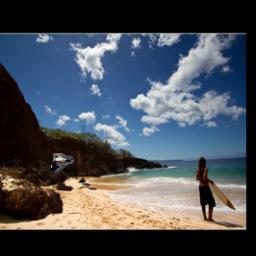Swallow: (51, 153, 74, 173)
